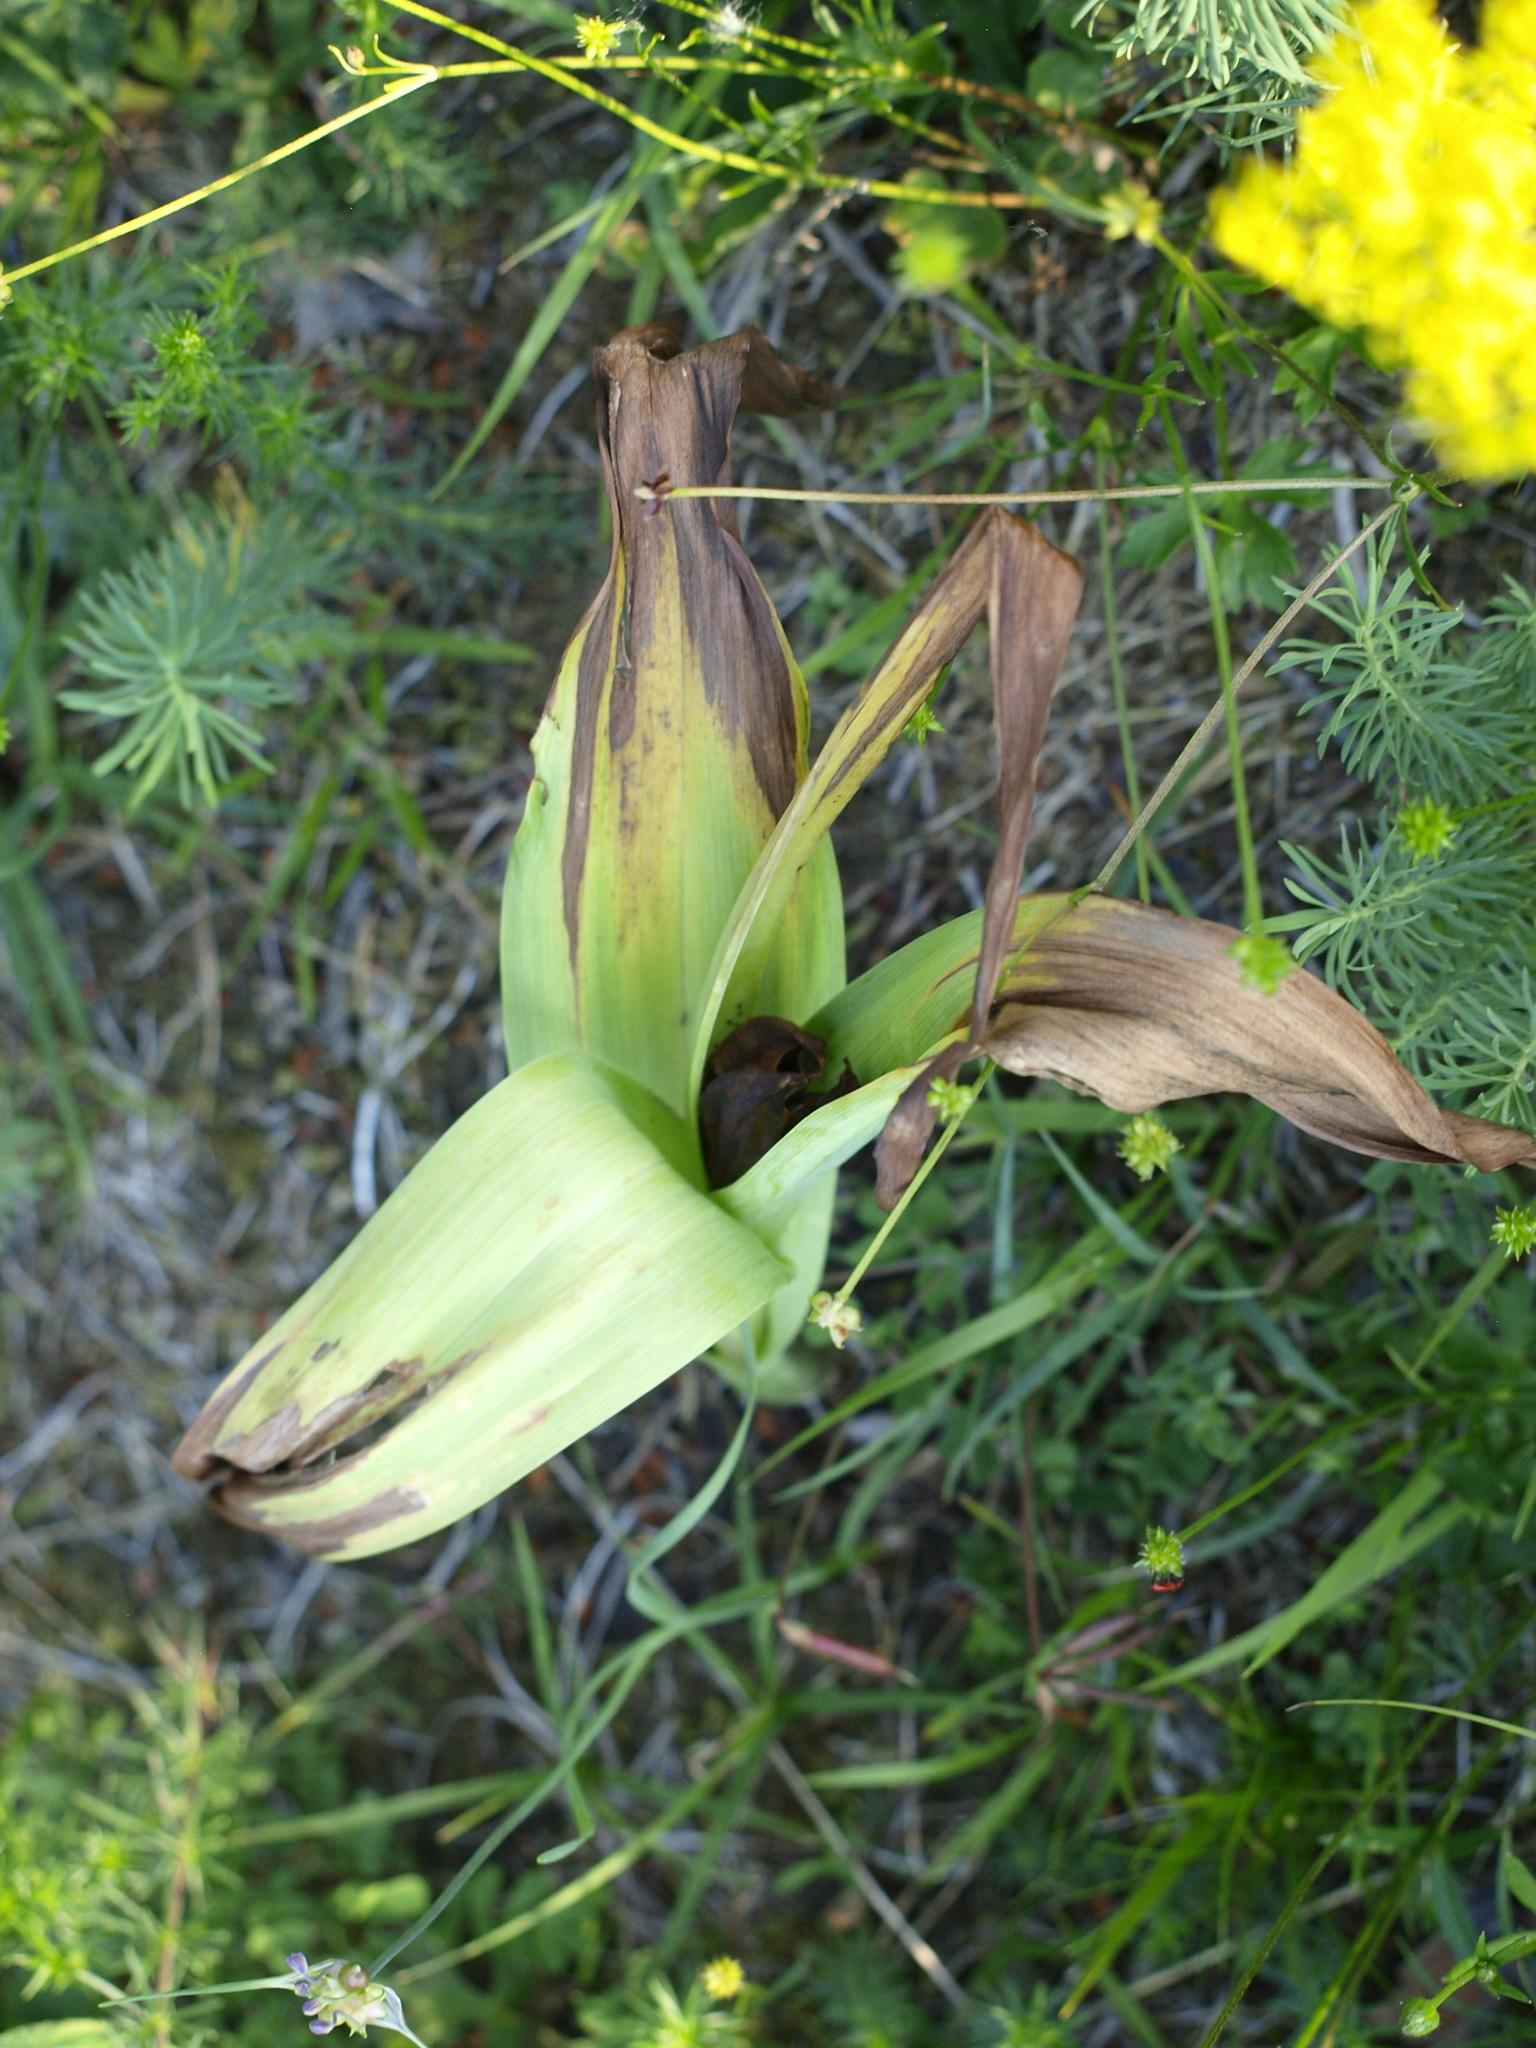Colchicum autumnale L: (166, 270, 1468, 1654)
